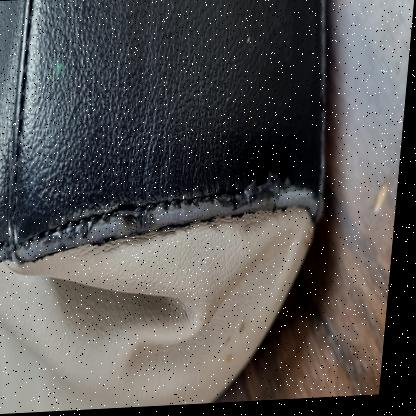spot: (216, 318, 270, 378)
